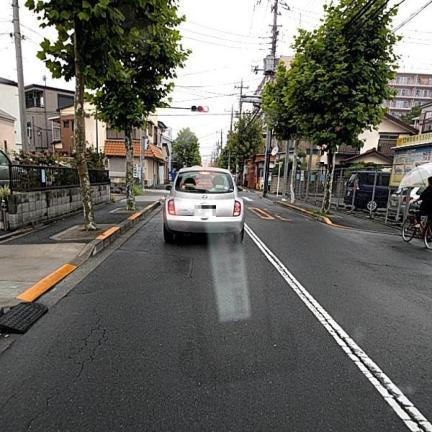Road: (0, 194, 431, 431)
